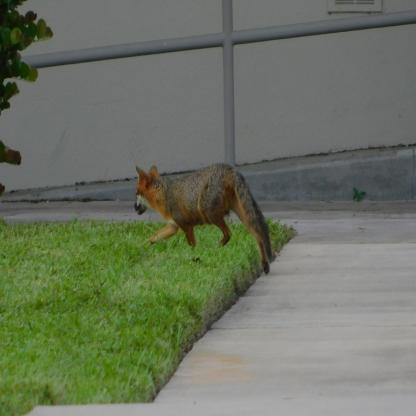zorro: (130, 162, 283, 279)
